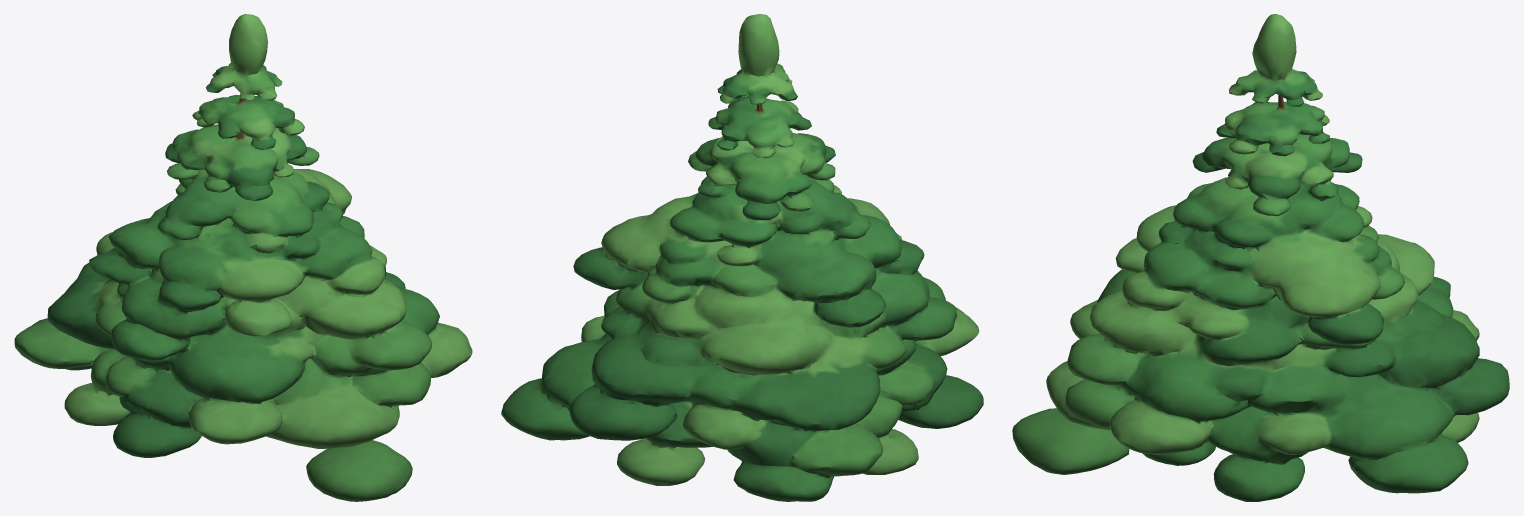
The model's file is pine_mature_full_base.glb.
3 renders of one model, left to right at view 1: azimuth 30°, elevation 25°; view 2: azimuth 150°, elevation 25°; view 3: azimuth 270°, elevation 25°, orthographic. The views are drawn at different scales.
Visible parts, largest first — view 1: pine_mature_full_base_LOD0; view 2: pine_mature_full_base_LOD0; view 3: pine_mature_full_base_LOD0.
Boxes of the visible parts, <box> form: pine_mature_full_base_LOD0: <box>14,14,472,501</box>; pine_mature_full_base_LOD0: <box>501,14,983,501</box>; pine_mature_full_base_LOD0: <box>1012,14,1509,501</box>.
Size of what is drawn, in the model's own units: 5.43 by 6.33 by 6.51.
